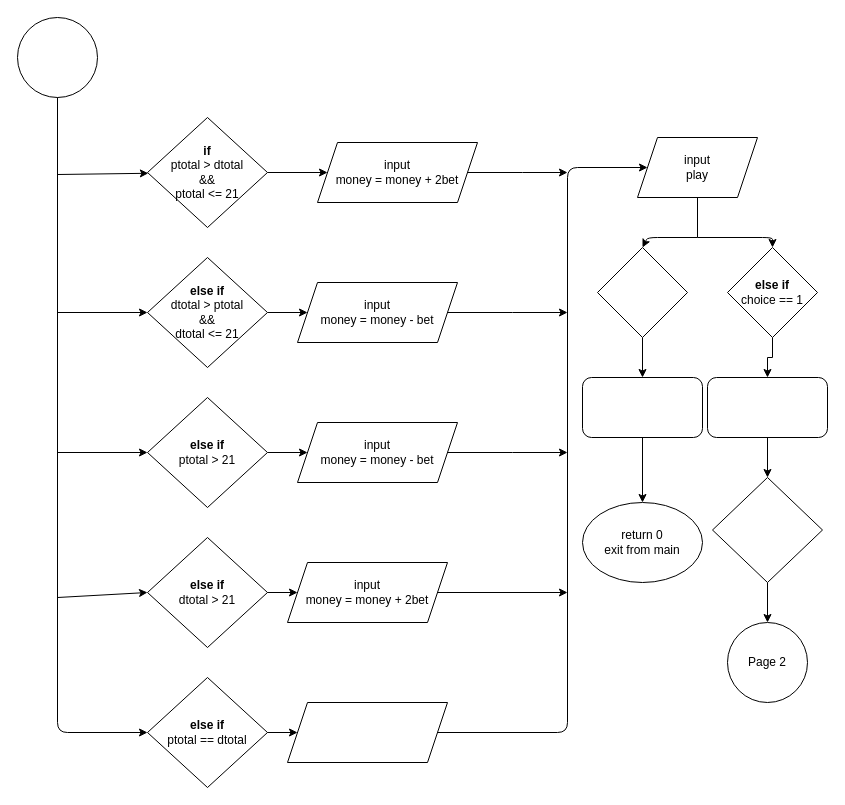
This 845x805 diagram has some shape labels left out. Each missing label, with the centre of its shape:
Continued from Page 3: [57,57]
if choice == 2: [642,292]
input money = money: [367,732]
play = false: [642,407]
play = true: [767,407]
while play == true: [767,529]
